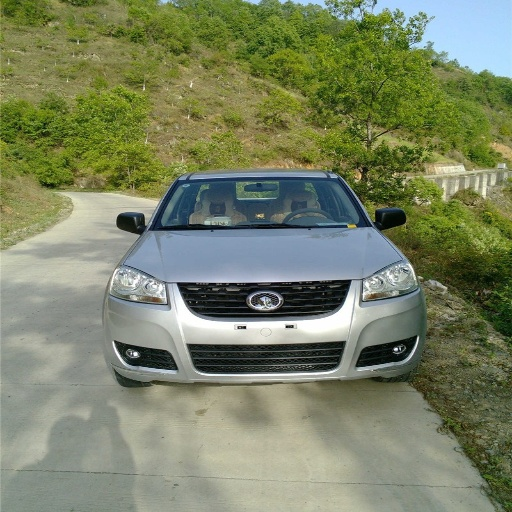front_bumper: (107, 278, 424, 384)
front_right_light: (109, 265, 169, 306)
hood: (132, 227, 399, 281)
